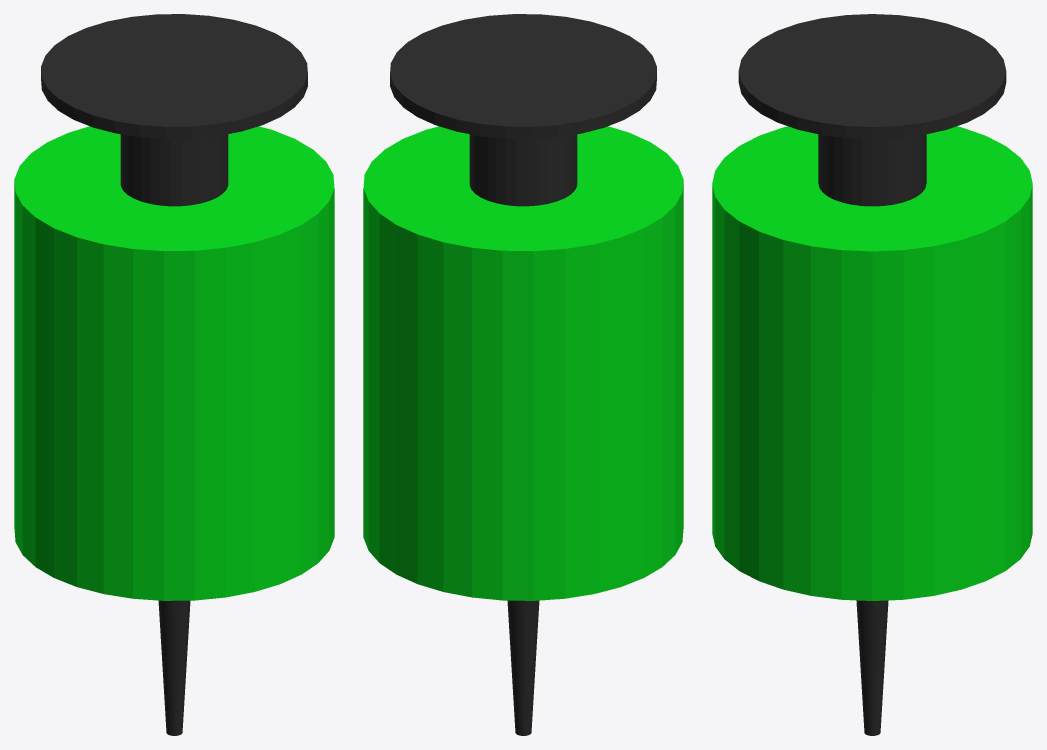
Rendered from Thejab.fbx.
3 renders of one model, left to right at view 1: azimuth 30°, elevation 25°; view 2: azimuth 150°, elevation 25°; view 3: azimuth 270°, elevation 25°, orthographic.
Visible parts, largest first — view 1: Cylinder, Cylinder.001; view 2: Cylinder, Cylinder.001; view 3: Cylinder, Cylinder.001.
Boxes of the visible parts, x1,y1,x2,y2 form: Cylinder: (14, 126, 334, 600); Cylinder.001: (41, 14, 307, 735); Cylinder: (363, 126, 683, 600); Cylinder.001: (390, 14, 656, 735); Cylinder: (712, 126, 1032, 600); Cylinder.001: (738, 14, 1006, 735).
Size of the model in its own units: 200 by 456 by 200.
